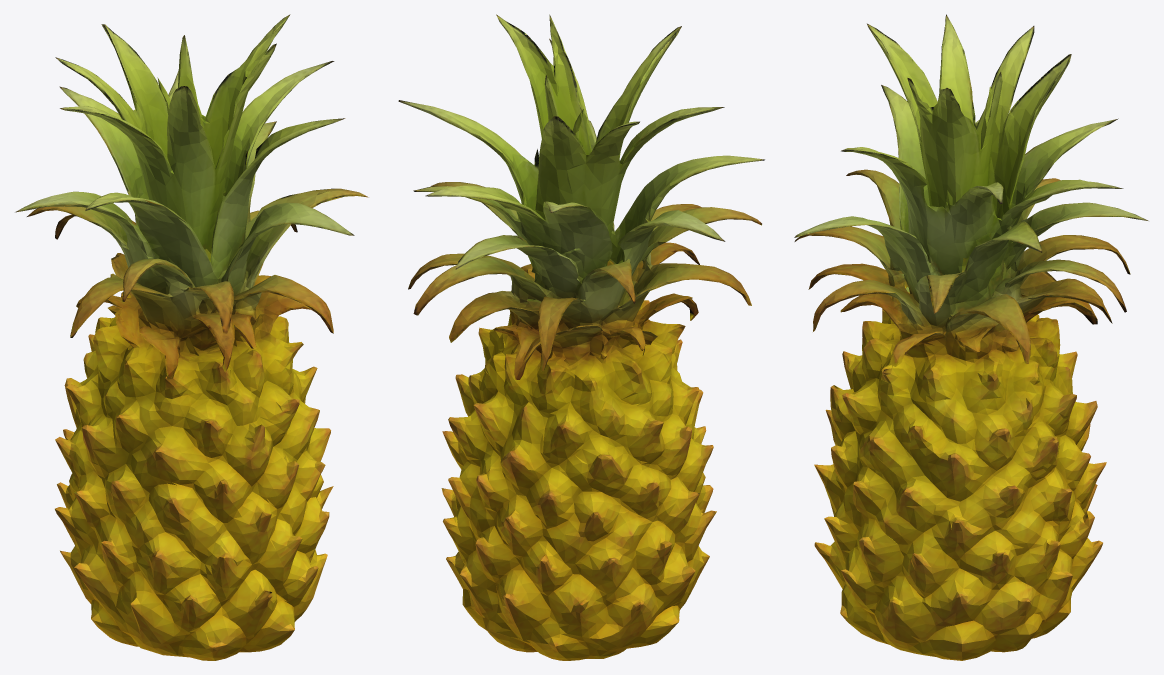
Rendered from pineapple.glb.
3 renders of one model, left to right at view 1: azimuth 30°, elevation 25°; view 2: azimuth 150°, elevation 25°; view 3: azimuth 270°, elevation 25°, orthographic. The views are drawn at different scales.
Parts seen in each view (by area): view 1: world; view 2: world; view 3: world.
Boxes of the visible parts, x1,y1,x2,y2 form: world: (15, 14, 368, 660); world: (398, 14, 764, 660); world: (794, 14, 1148, 660).
Size of the model in its own units: 0.5723 by 0.9945 by 0.5529.
Materials: 1 (1 with a texture image).
